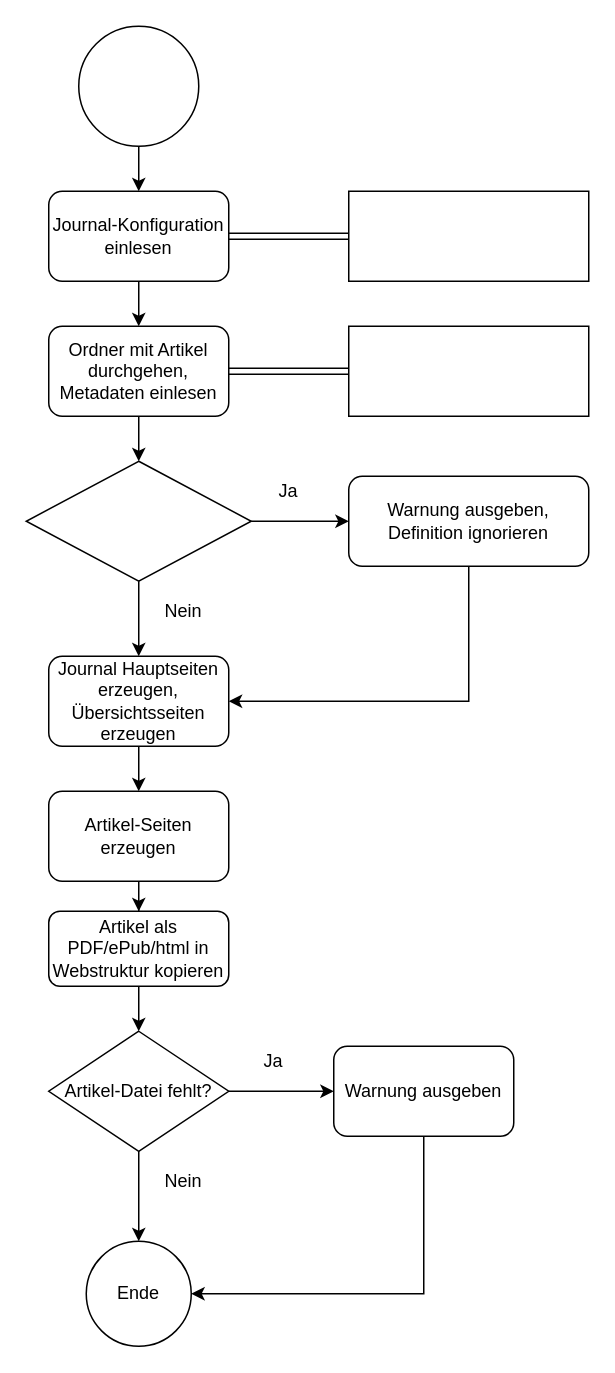
Image size: 615x1373. Some labels were removed from this diagram. The shapes that lost their labels are listed below. From the top down, each one's centre as x and y in pixels, then its label:
(138,85): Start
(468,235): Titel, ISSN, Liste der Editoren, Fachgebiete
(468,370): Datenbank der Artikel + Metadaten, verfuegbare Sprachen, Fachgebiete
(138,520): Neue Fachgebiete in Artikel definiert
